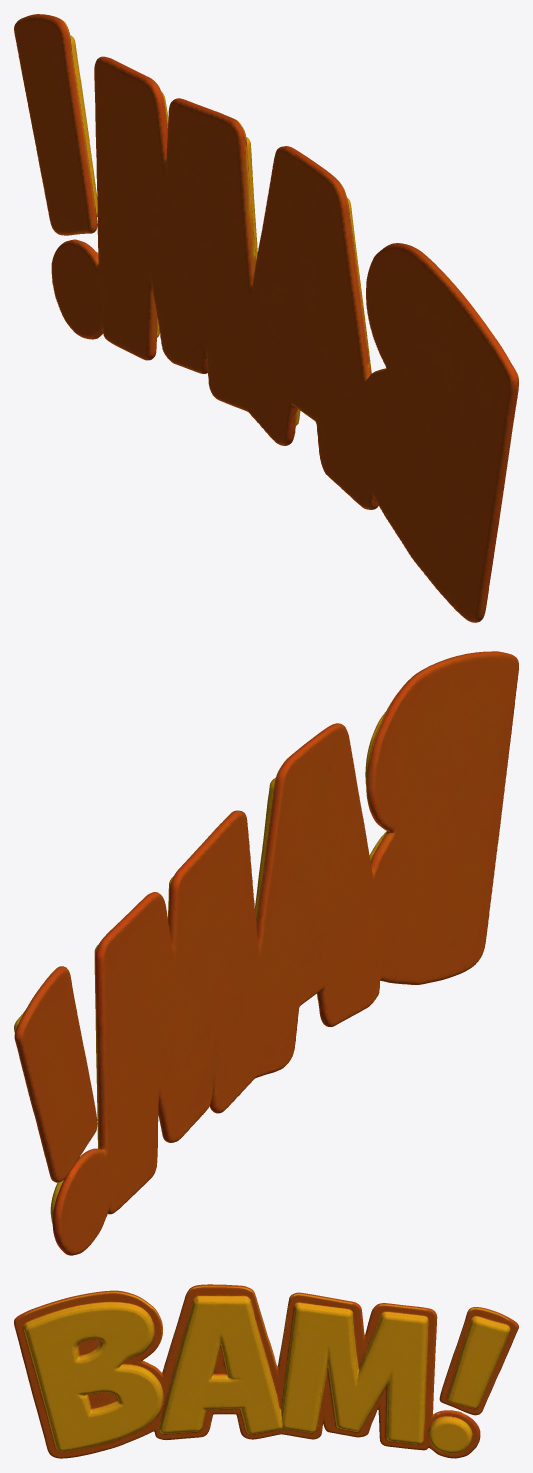
File: BAM.glb
3 views of the same model, one above another, from view 1: azimuth 30°, elevation 25°; view 2: azimuth 150°, elevation 25°; view 3: azimuth 270°, elevation 25° (orthographic). The views are drawn at different scales.
Parts seen in each view (by area): view 1: tripo_node_6c4d6c96; view 2: tripo_node_6c4d6c96; view 3: tripo_node_6c4d6c96.
Boxes of the visible parts, x1,y1,x2,y2 form: tripo_node_6c4d6c96: (14,14,518,622); tripo_node_6c4d6c96: (14,651,518,1255); tripo_node_6c4d6c96: (14,1284,518,1458).
Bounding box in the file's own units: 0.025 × 0.3789 × 1.
Materials: 1 (1 with a texture image).
